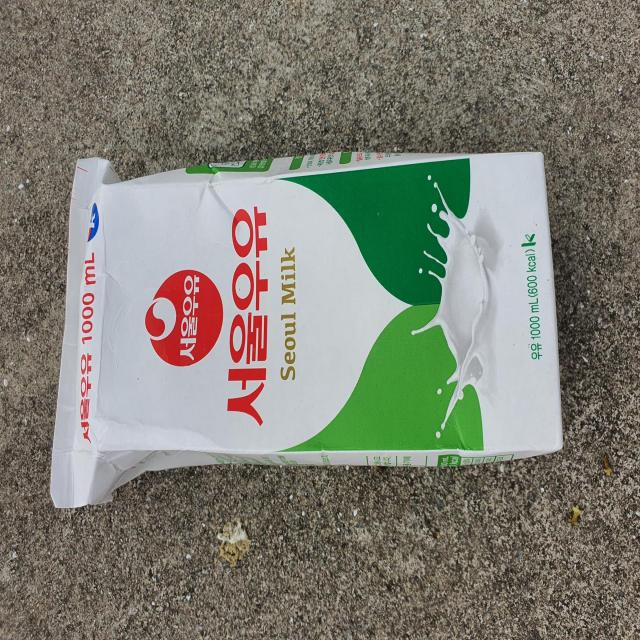paperpack: (50, 152, 563, 508)
